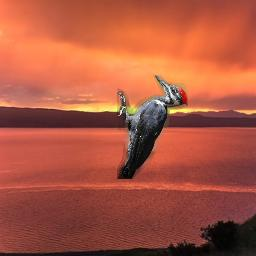Woodpecker: (117, 75, 188, 179)
